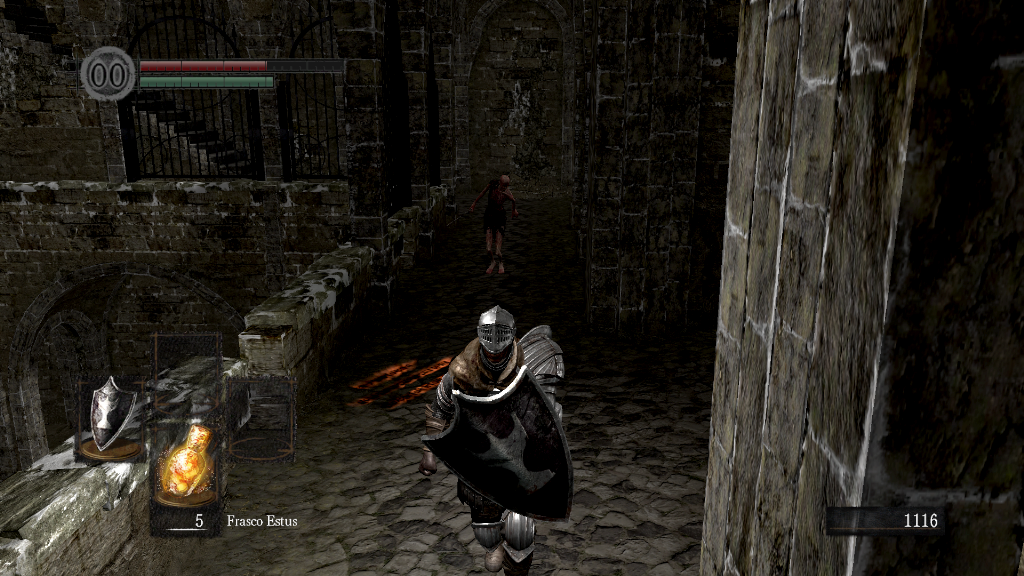health: (138, 58, 343, 71)
hollow: (471, 170, 524, 274)
humanity: (80, 45, 136, 102)
player: (418, 304, 577, 576)
souls: (825, 506, 945, 536)
stamina: (138, 74, 274, 88)
